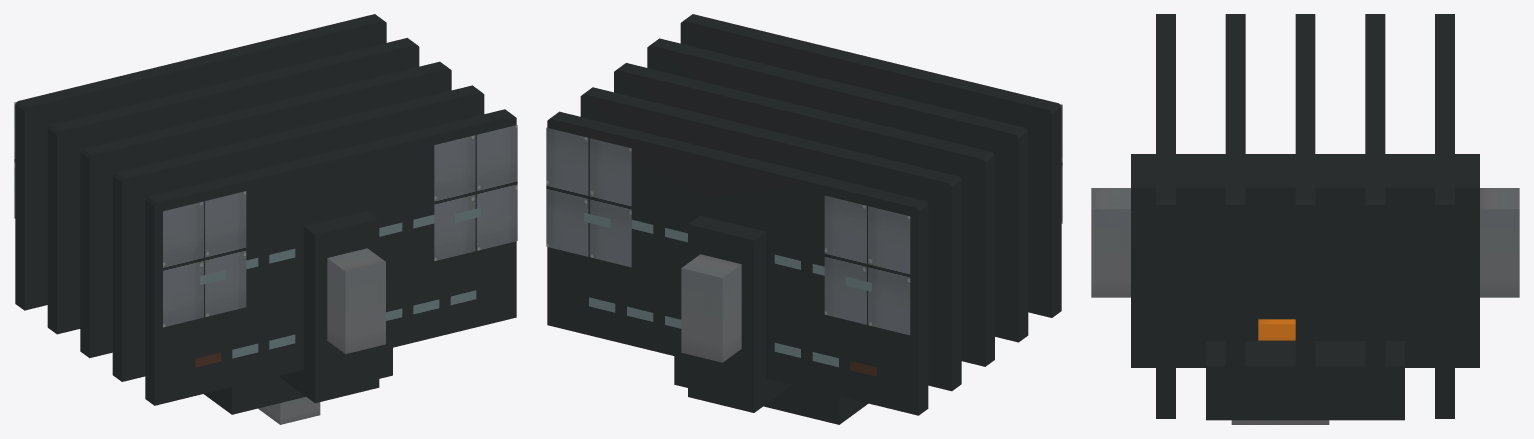
The model's file is kit_dressing_radiator.glb.
The picture shows the model from 3 angles, left to right: view 1: azimuth 30°, elevation 25°; view 2: azimuth 150°, elevation 25°; view 3: azimuth 270°, elevation 25°; orthographic projection. The views are drawn at different scales.
Visible parts, largest first — view 1: lod0; view 2: lod0; view 3: lod0.
Boxes of the visible parts, x1=… form: lod0: x1=14, y1=14, x2=517, y2=424; lod0: x1=546, y1=14, x2=1062, y2=424; lod0: x1=1091, y1=14, x2=1519, y2=424.
Size of what is drawn, in the model's own units: 45 by 34 by 43.
Materials: 1 (1 with a texture image).
